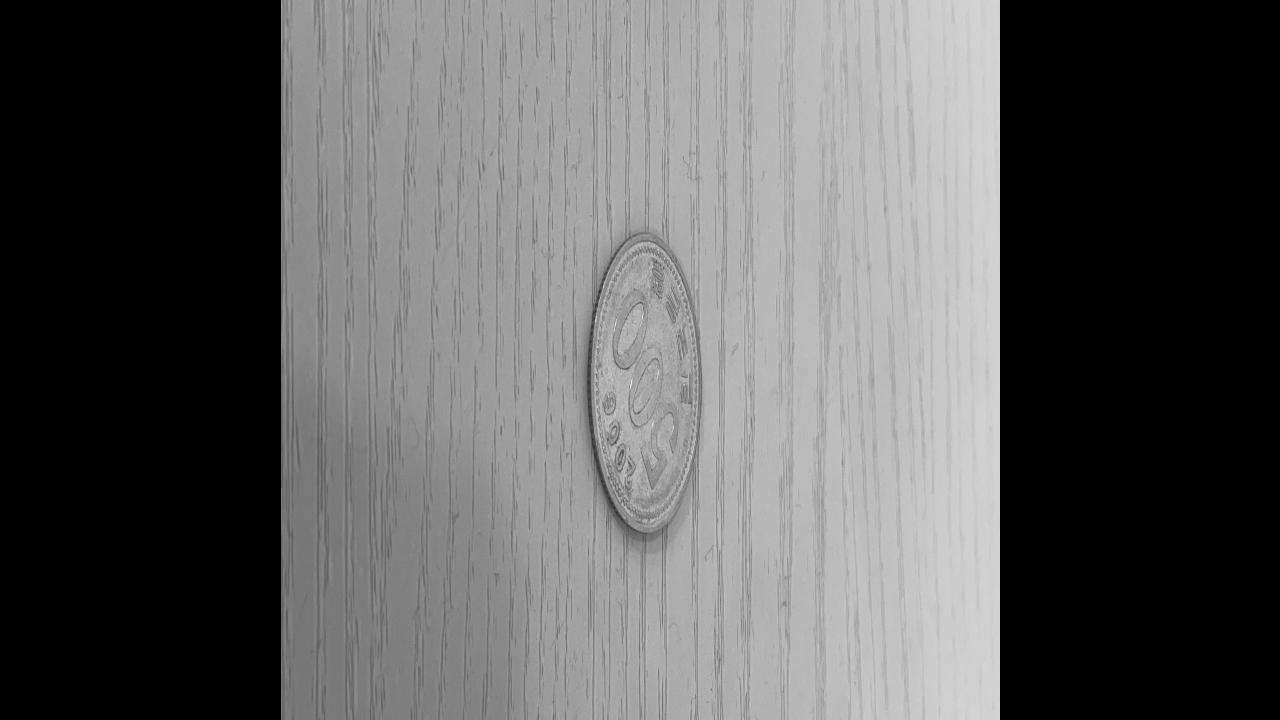coin: (584, 231, 702, 542)
